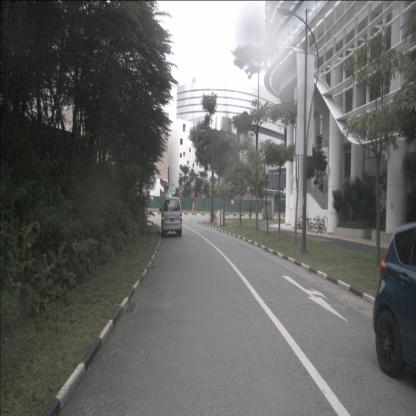human-pedestrian-adult: (262, 207, 264, 220)
movable_object-trafficcone: (208, 213, 211, 221)
vehicle-car: (372, 221, 416, 379), (161, 197, 182, 237)
